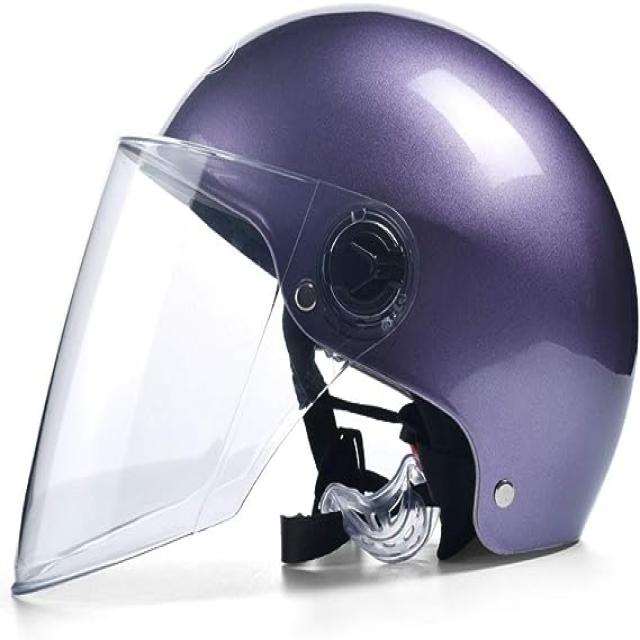helmet: (7, 3, 640, 611)
